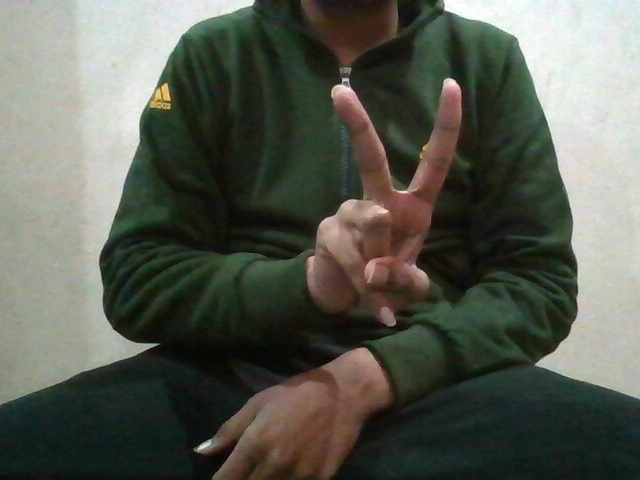V: (315, 71, 452, 316)
